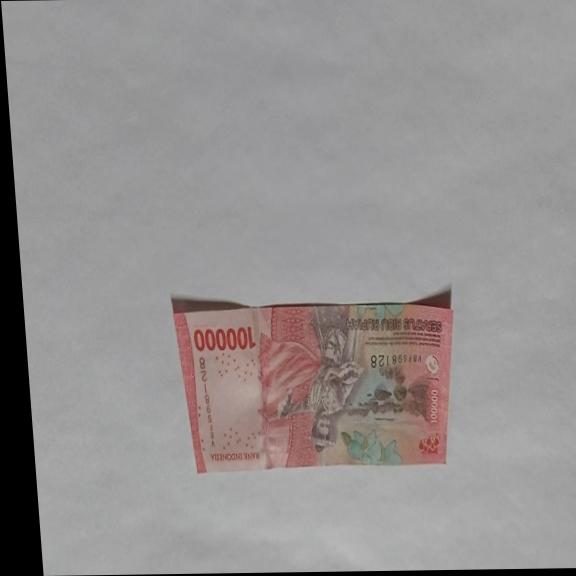Kertas: (170, 294, 464, 474), (192, 324, 256, 354)
